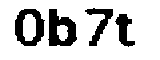0: (13, 6, 45, 49)
7: (80, 5, 113, 51)
b: (48, 7, 78, 50)
t: (115, 13, 139, 51)
